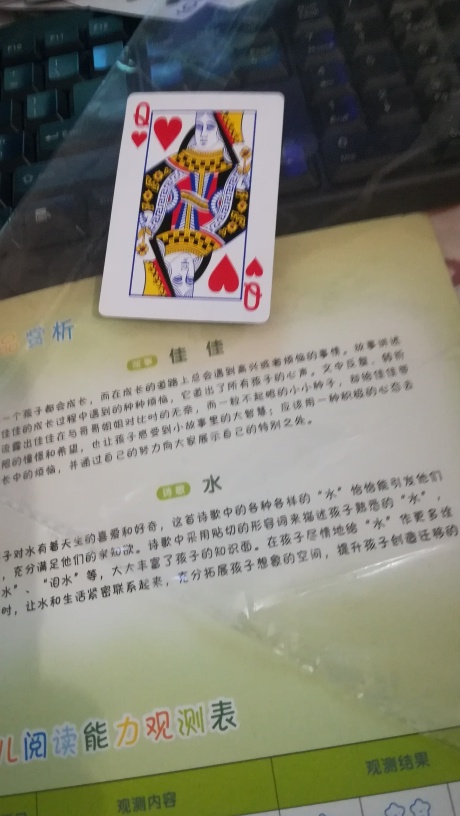hx q: (90, 85, 276, 331)
